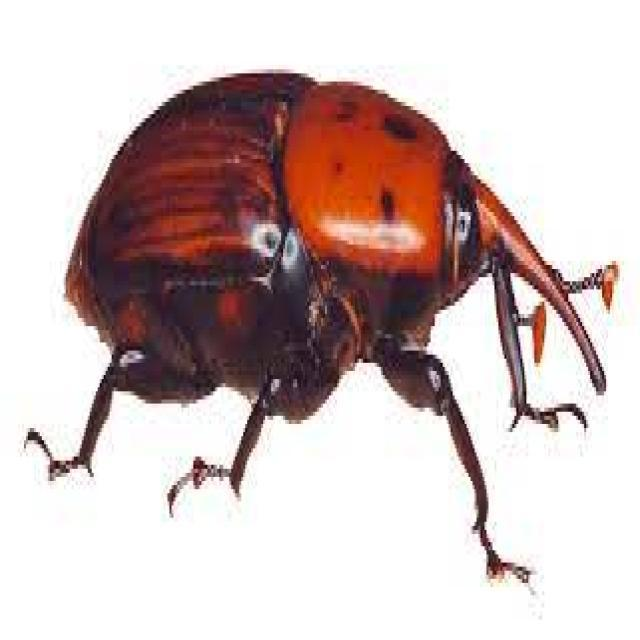Red-palm-weevil: (17, 58, 634, 556)
